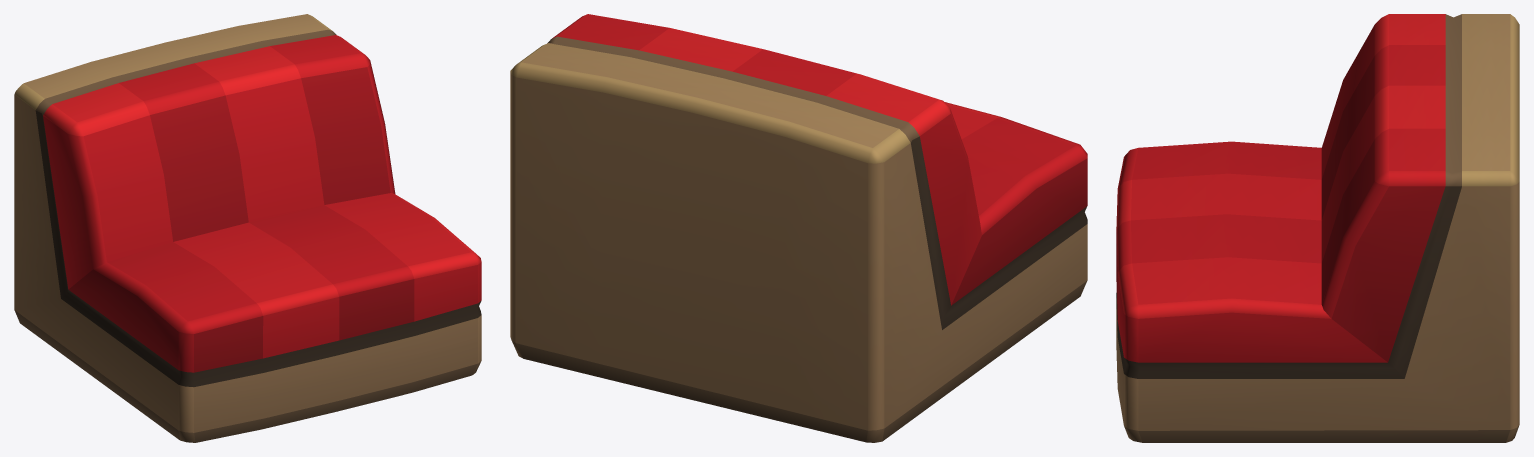
The model's file is seating_outdoor1_1_LOD_group.fbx.
The picture shows the model from 3 angles, left to right: view 1: azimuth 30°, elevation 25°; view 2: azimuth 150°, elevation 25°; view 3: azimuth 270°, elevation 25°; orthographic projection. The views are drawn at different scales.
Visible parts, largest first — view 1: seating_outdoor1_1_LOD0; view 2: seating_outdoor1_1_LOD0; view 3: seating_outdoor1_1_LOD0.
Boxes of the visible parts, <box> form: seating_outdoor1_1_LOD0: <box>14,14,481,442</box>; seating_outdoor1_1_LOD0: <box>510,14,1087,442</box>; seating_outdoor1_1_LOD0: <box>1116,14,1519,442</box>.
Size of what is drawn, in the model's own units: 100 by 76.95 by 102.
